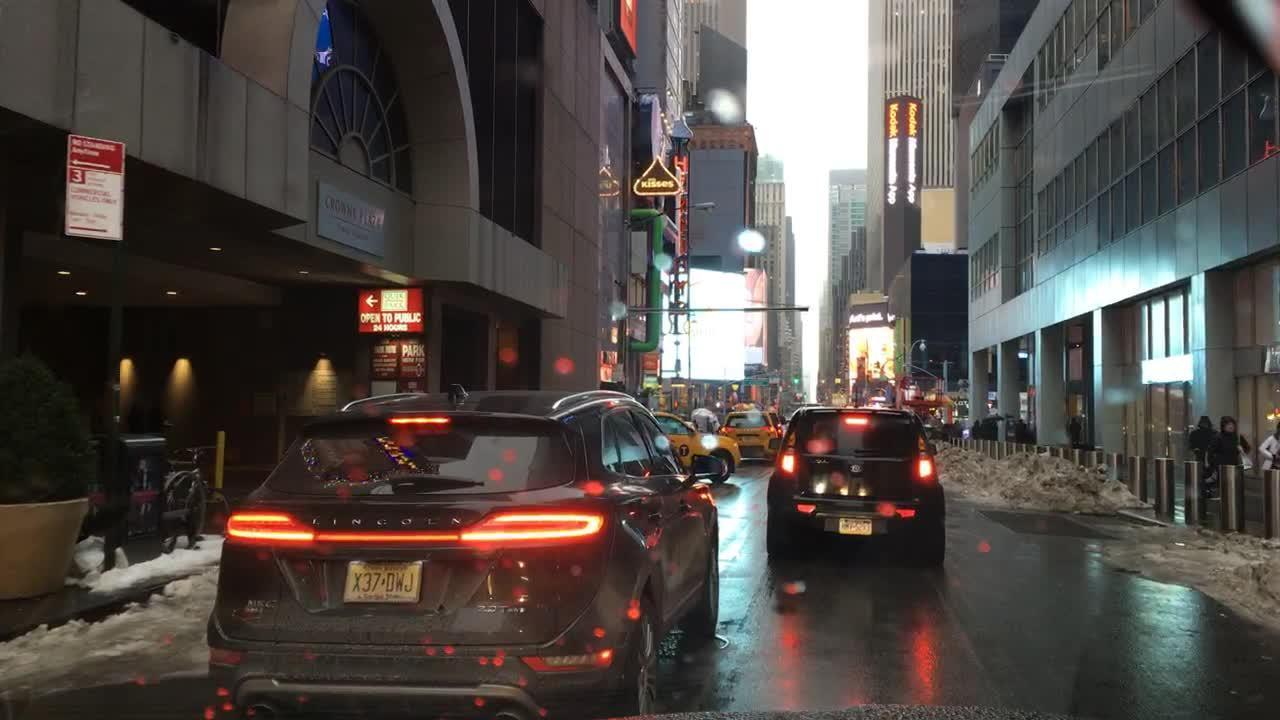Mazda: (847, 133, 865, 168)
lincoln: (307, 508, 463, 533)
